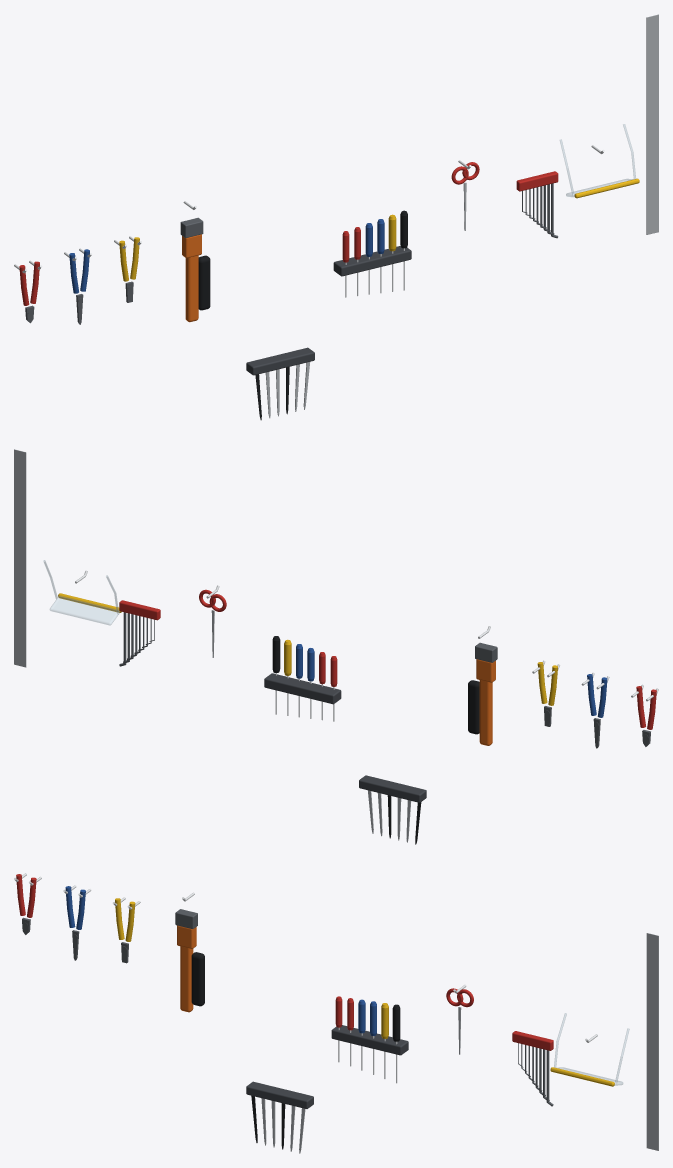
File: pegboard-tools.glb
The picture shows the model from 3 angles, top to bottom: view 1: azimuth 30°, elevation 25°; view 2: azimuth 150°, elevation 25°; view 3: azimuth 330°, elevation 25°; orthographic projection.
Parts seen in each view (by area): view 1: steel_ruler, wire_stripper, screwdriver_set, tweezers_set, hex_keys, wire_stripper_grip; view 2: steel_ruler, safety_glasses, wire_stripper, screwdriver_set, tweezers_set, hex_keys, wire_stripper_grip; view 3: steel_ruler, wire_stripper, screwdriver_set, tweezers_set, hex_keys, wire_stripper_grip, safety_glasses, pliers_needle_grip, side_cutter_grip, pliers_flat_grip, hex_holder.
Boxes of the visible parts, box(x1,y1,x2,y2) form: steel_ruler: box(646, 14, 658, 234); wire_stripper: box(182, 234, 201, 322); screwdriver_set: box(333, 246, 411, 276); tweezers_set: box(246, 347, 314, 375); hex_keys: box(522, 183, 558, 238); wire_stripper_grip: box(198, 255, 210, 310); steel_ruler: box(14, 449, 26, 667); safety_glasses: box(43, 560, 119, 625); wire_stripper: box(476, 659, 495, 745); screwdriver_set: box(264, 673, 341, 704); tweezers_set: box(359, 775, 426, 802); hex_keys: box(119, 612, 154, 666); wire_stripper_grip: box(468, 680, 479, 734); steel_ruler: box(646, 933, 658, 1150); wire_stripper: box(177, 925, 196, 1012); screwdriver_set: box(331, 1025, 408, 1055); tweezers_set: box(246, 1081, 313, 1108); hex_keys: box(518, 1043, 553, 1106); wire_stripper_grip: box(191, 952, 204, 1006); safety_glasses: box(554, 1013, 629, 1085); pliers_needle_grip: box(65, 886, 85, 929); side_cutter_grip: box(16, 874, 36, 917); pliers_flat_grip: box(115, 898, 135, 941); hex_holder: box(512, 1031, 553, 1050).
Bounding box in the file's own units: 1.55 × 0.7 × 0.0691.
